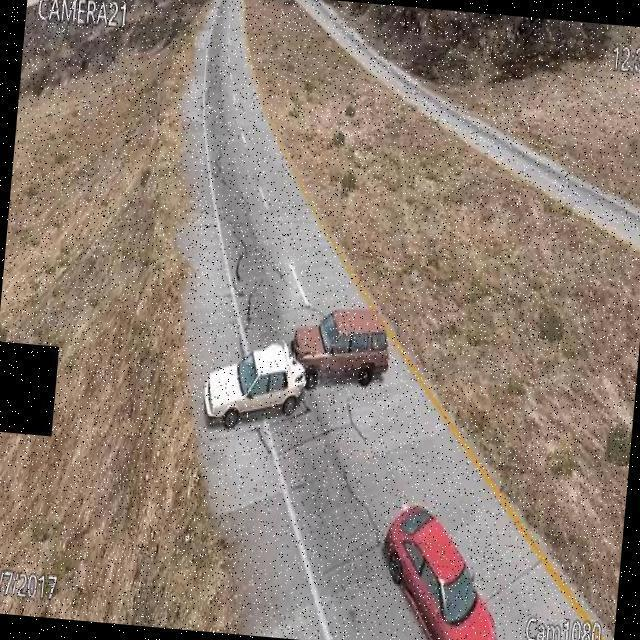accident: (197, 290, 396, 448)
